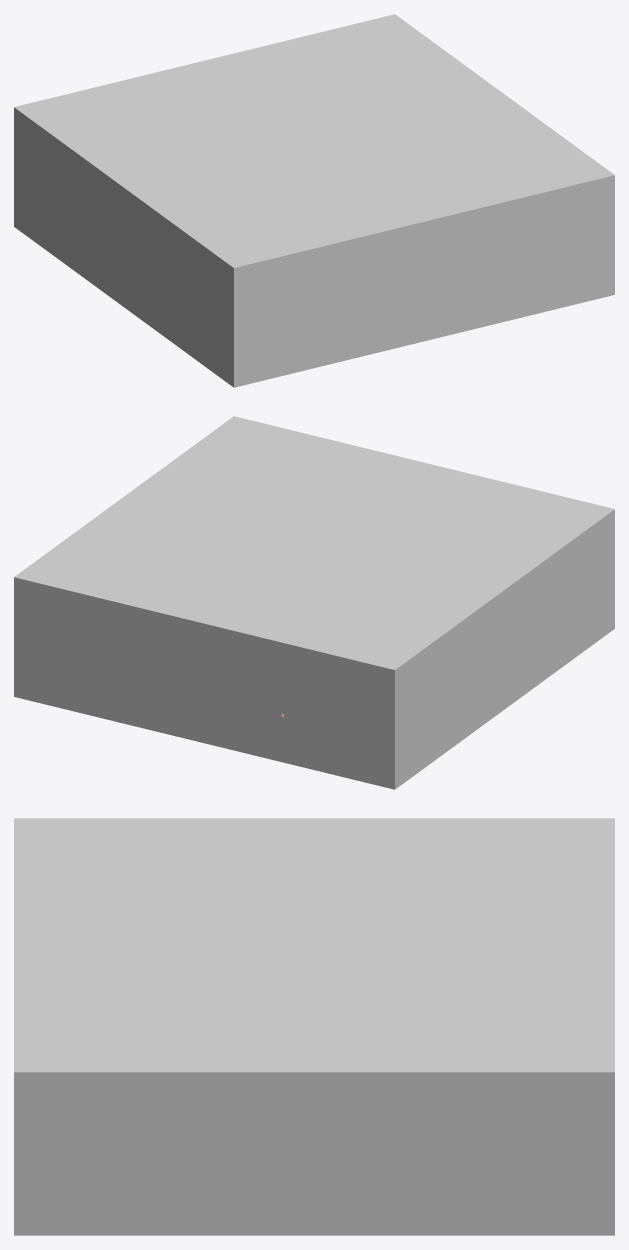
File: mousetrap.FBX
The picture shows the model from 3 angles, top to bottom: view 1: azimuth 30°, elevation 25°; view 2: azimuth 150°, elevation 25°; view 3: azimuth 270°, elevation 25°; orthographic projection. The views are drawn at different scales.
Parts seen in each view (by area): view 1: ceiling, wall_acrossmhouse, wall_stove; view 2: ceiling, wall_mousehouse, wall_stove; view 3: ceiling, wall_acrossstove.
Part boxes in pixels (x1,y1,x2,y2): ceiling: (14, 14, 614, 267); wall_acrossmhouse: (234, 175, 614, 387); wall_stove: (14, 107, 233, 387); ceiling: (14, 416, 614, 669); wall_mousehouse: (14, 577, 394, 789); wall_stove: (395, 509, 614, 789); ceiling: (14, 818, 614, 1072); wall_acrossstove: (14, 1072, 614, 1235).
Bounding box in the file's own units: 20011 × 6006 × 20011.
9 materials, 1 textured.
